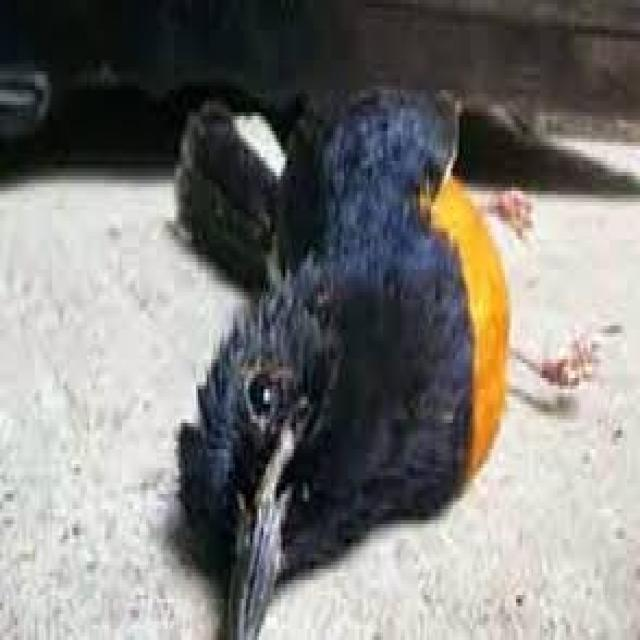Bangkai Burung: (144, 89, 562, 626)
